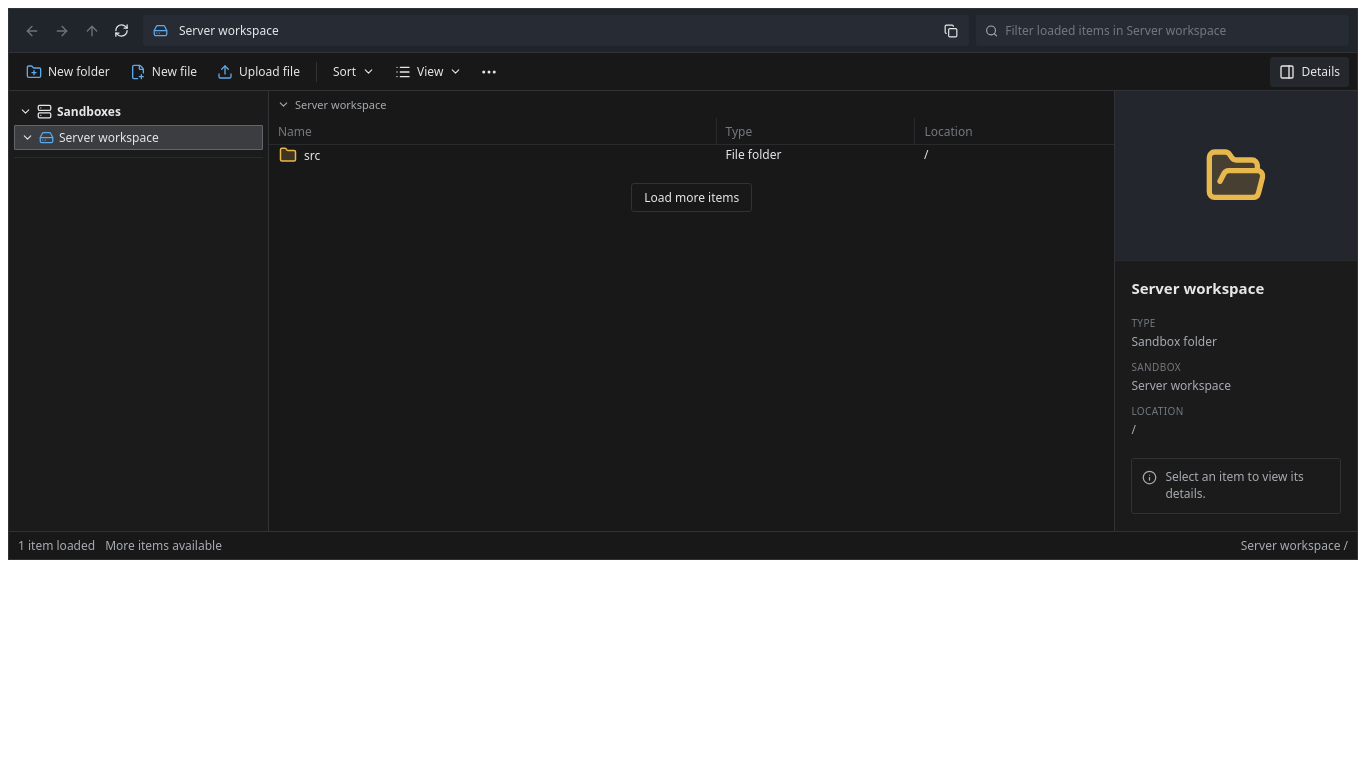
SandboxExplorerView › opens directories and files from their context menus
Right-click the button "src File folder /" at (753, 154), box [269,145,1114,175]
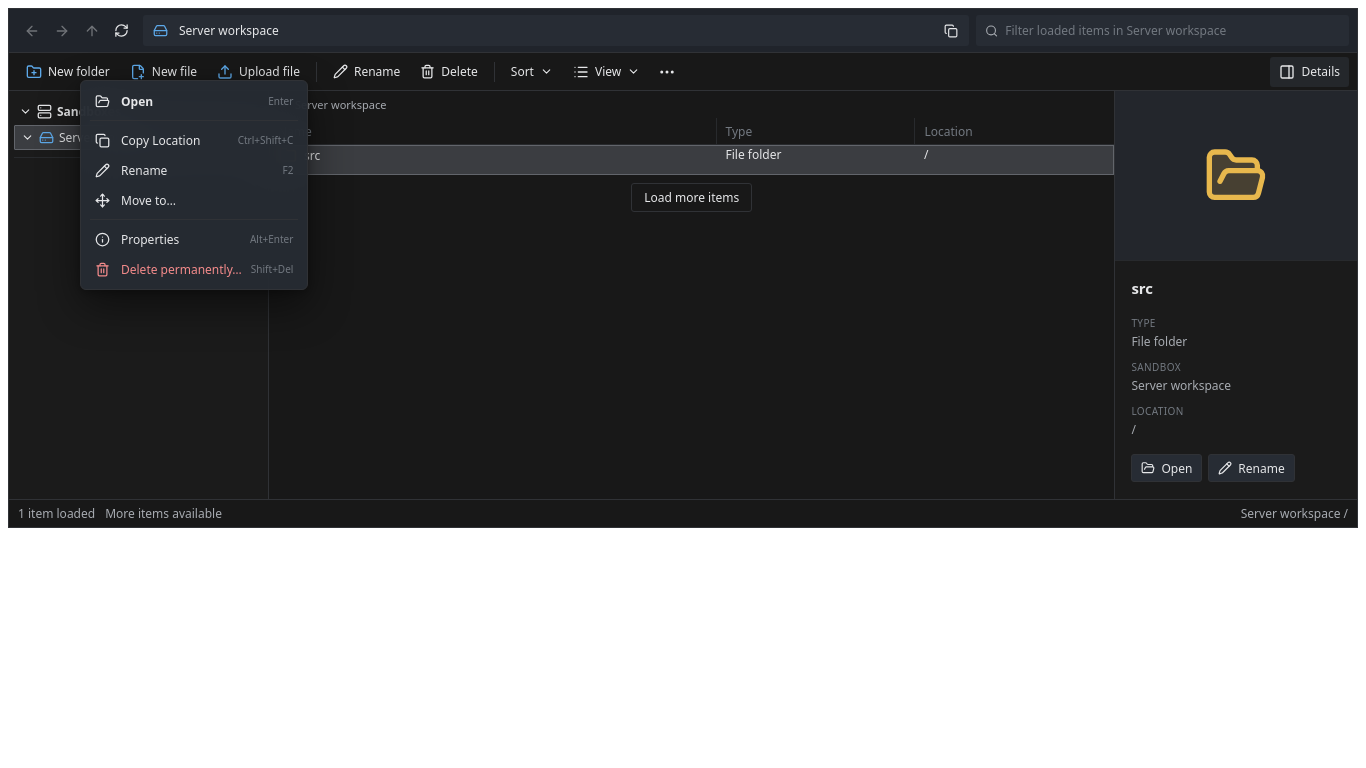
Click the menu item "Open Enter" at (194, 101), box [86,86,302,116]
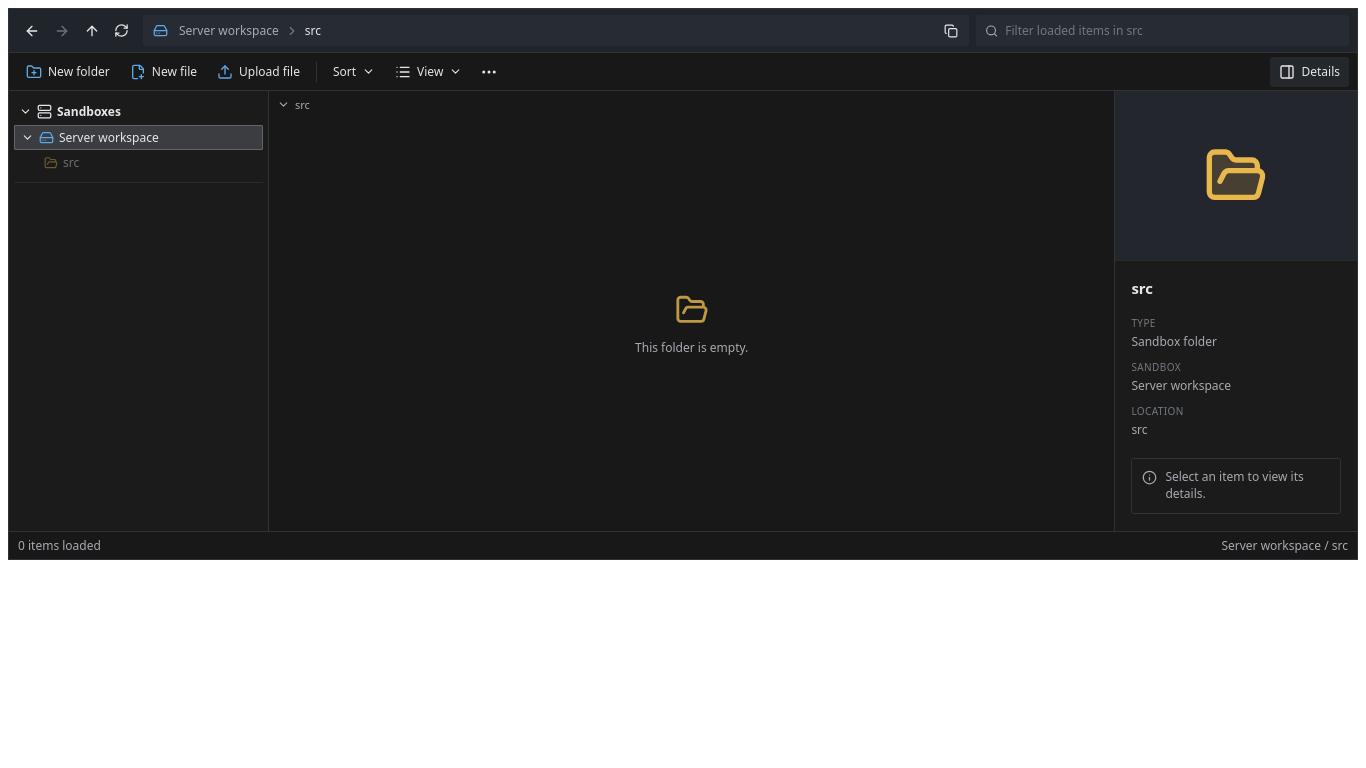
Click the button named "Back" at (32, 30), box [17,16,46,46]
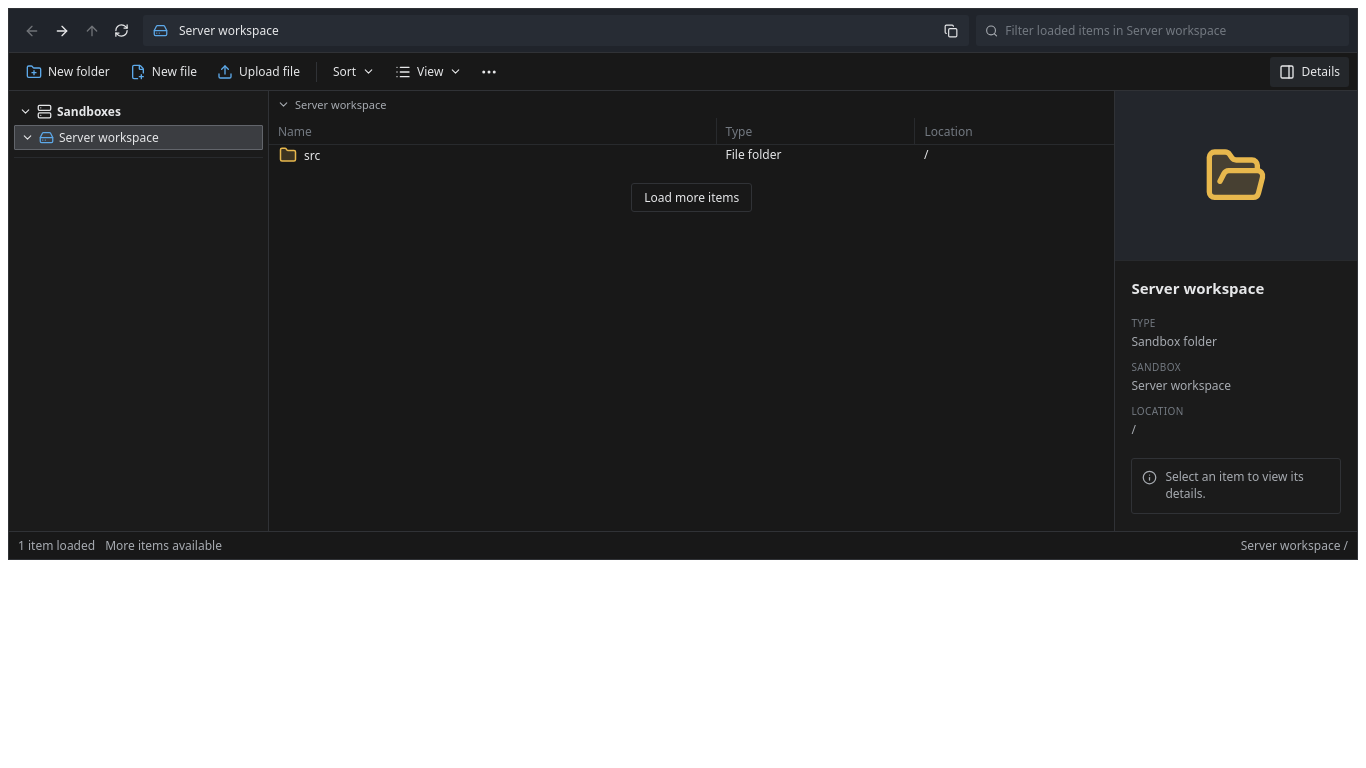
Expected: the button "src File folder /" is shown, [269,145,1114,175]
Click the button "Load more items" at (692, 198), box [631,183,752,212]
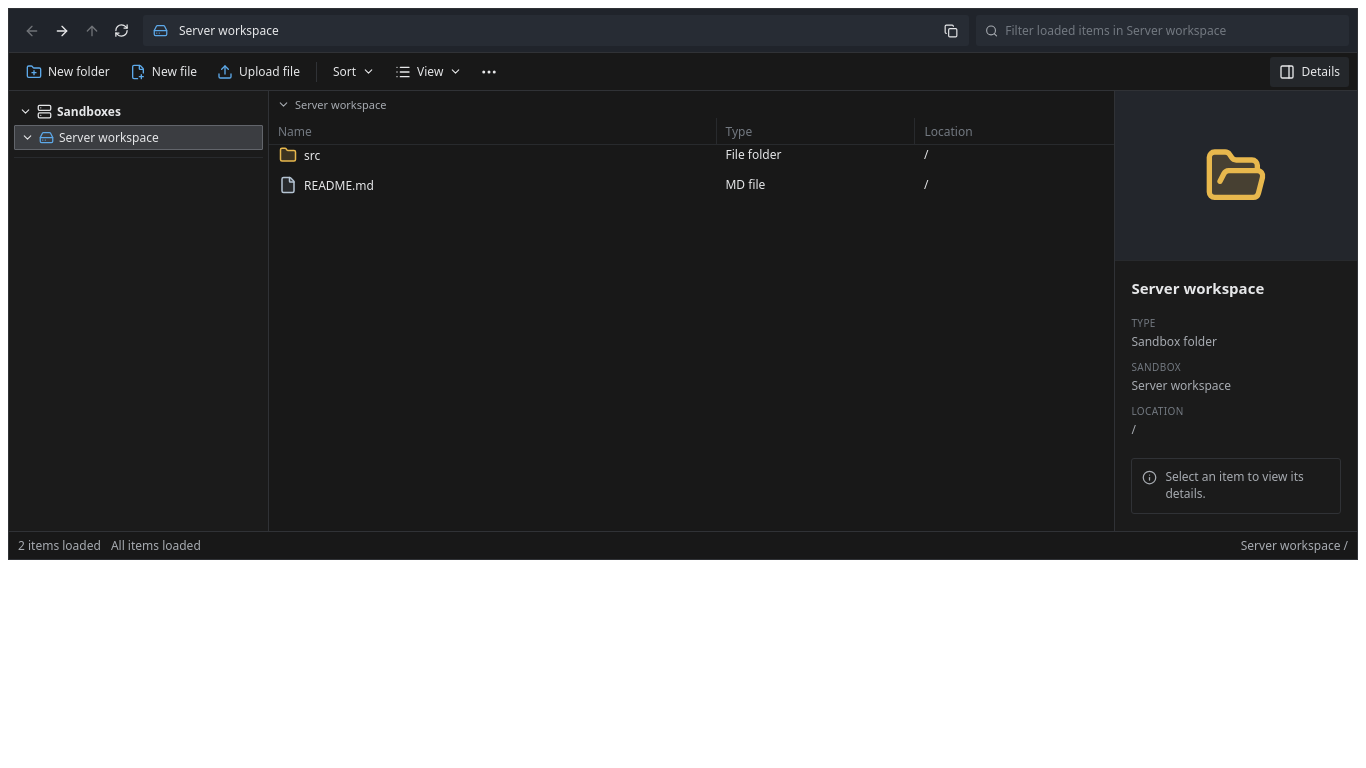
Right-click the button "README.md MD file /" at (339, 185), box [269,175,1114,205]
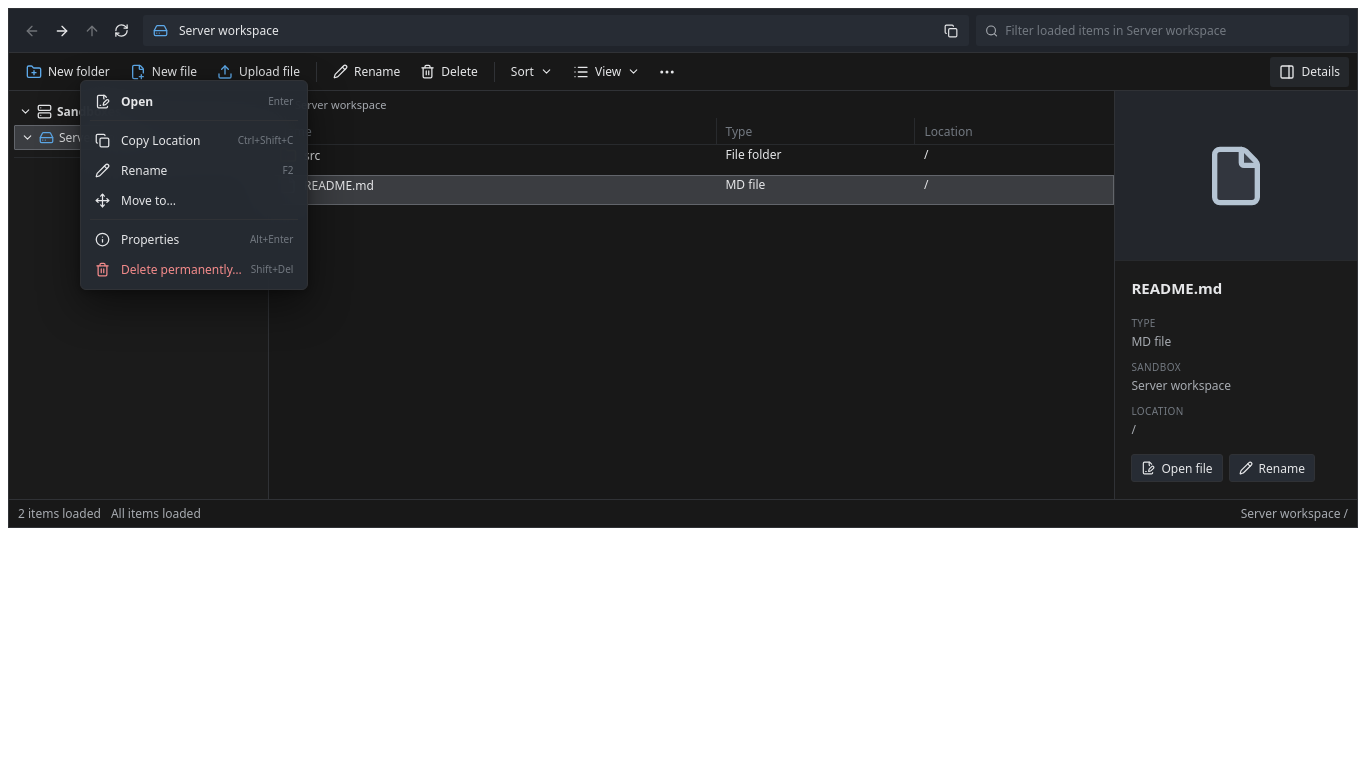
Click the menu item "Open Enter" at (194, 101), box [86,86,302,116]
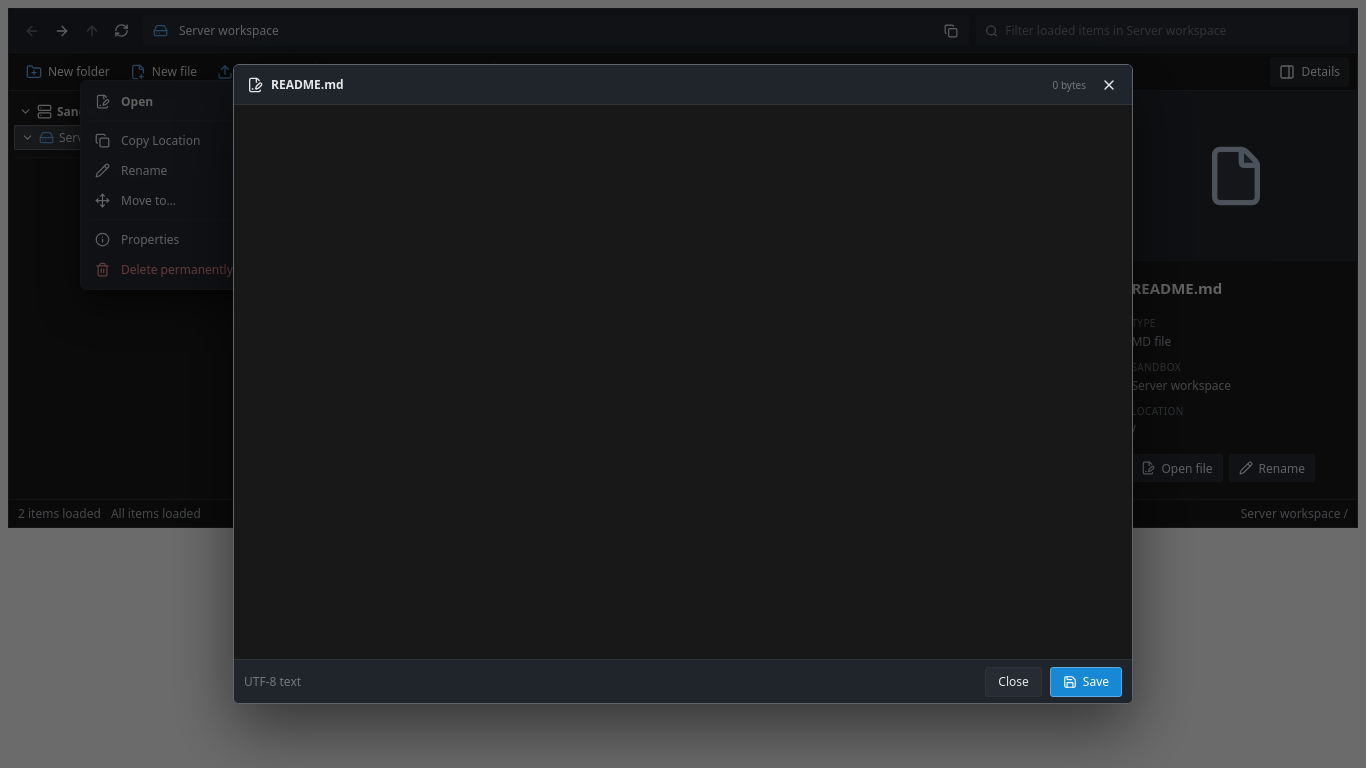
Expected: the dialog named "Edit README.md" is shown, [233,64,1133,704]
